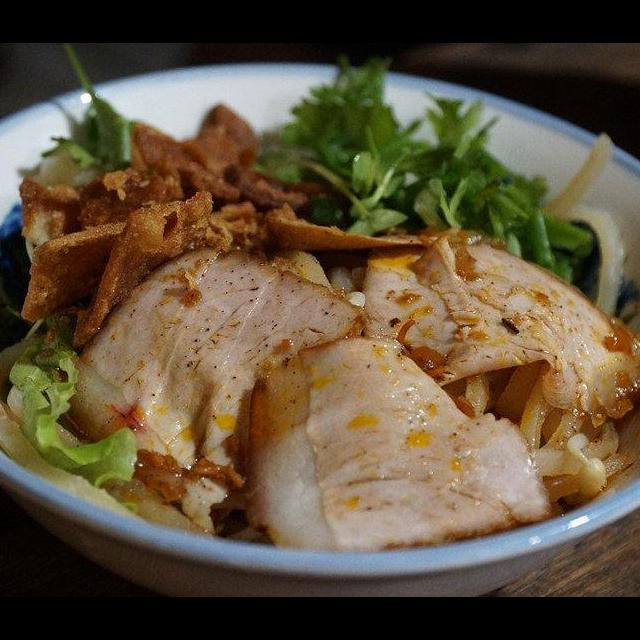banh da: (67, 185, 239, 355), (122, 97, 333, 212), (13, 160, 145, 266), (14, 215, 136, 327), (260, 197, 483, 256)
mi: (0, 331, 201, 537), (450, 352, 636, 512)
mi quang: (0, 89, 640, 597)
thit heo: (54, 237, 372, 540), (242, 331, 555, 566), (355, 230, 640, 429)
